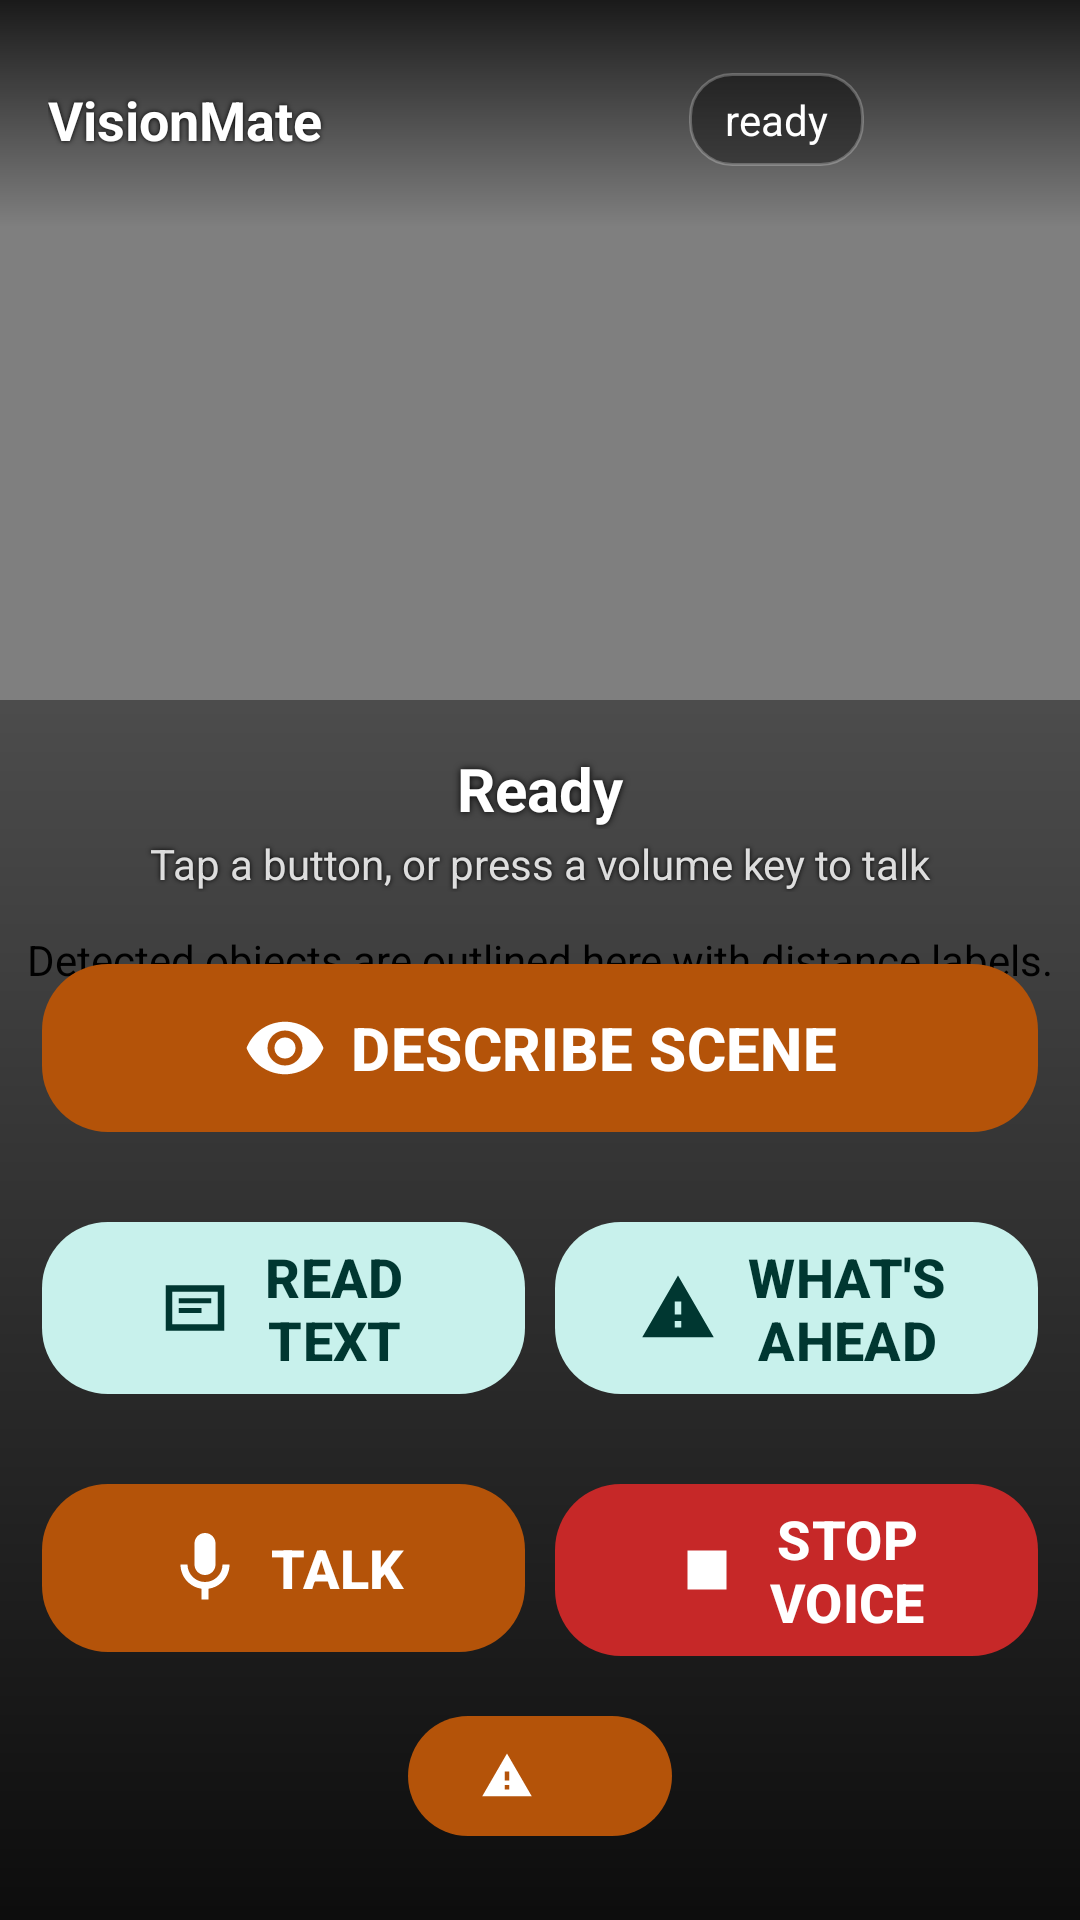

Named icons in this screenshot (1080px×1920px) and their bounding boxes, (x1, y1, x2, y2):
Toggle continuous obstacle warnings: (408, 1716, 672, 1836)
